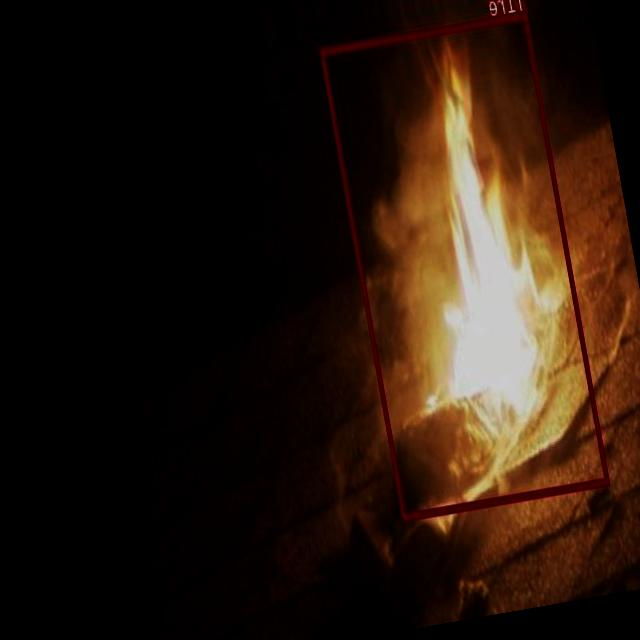fire: (319, 9, 610, 520)
